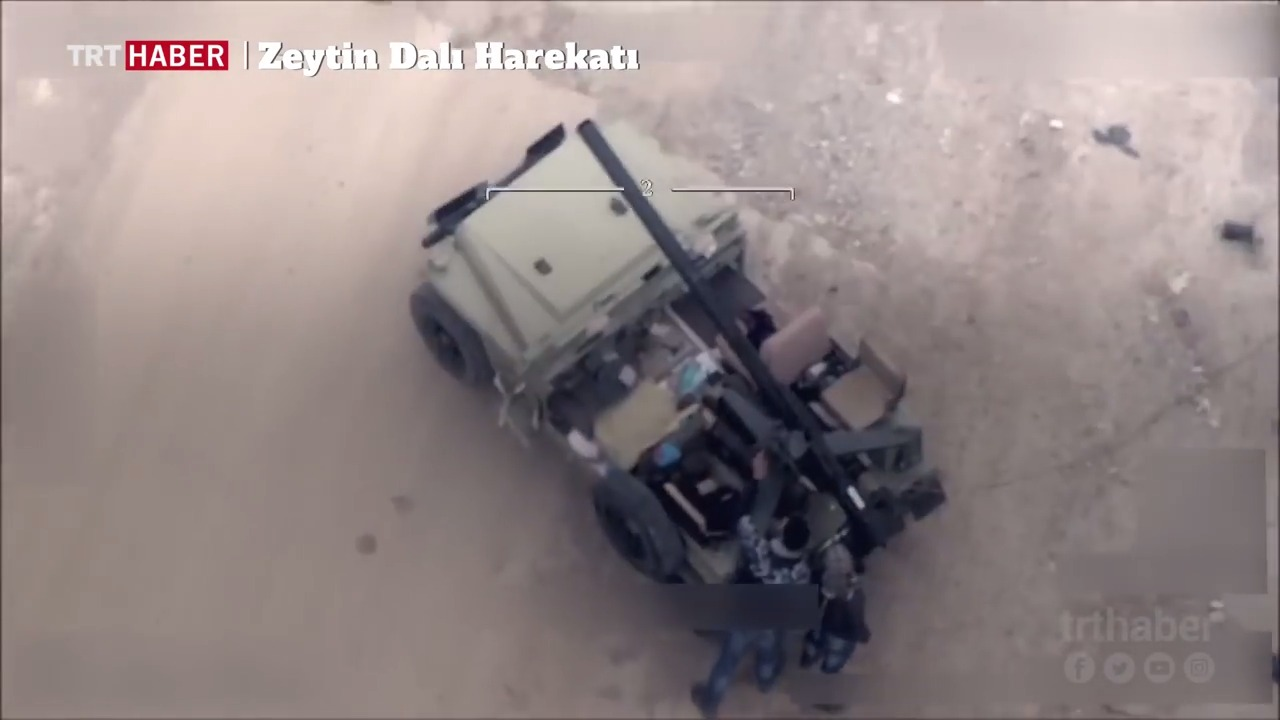arac: (418, 102, 931, 620)
insan: (670, 445, 813, 712), (794, 529, 862, 685)
